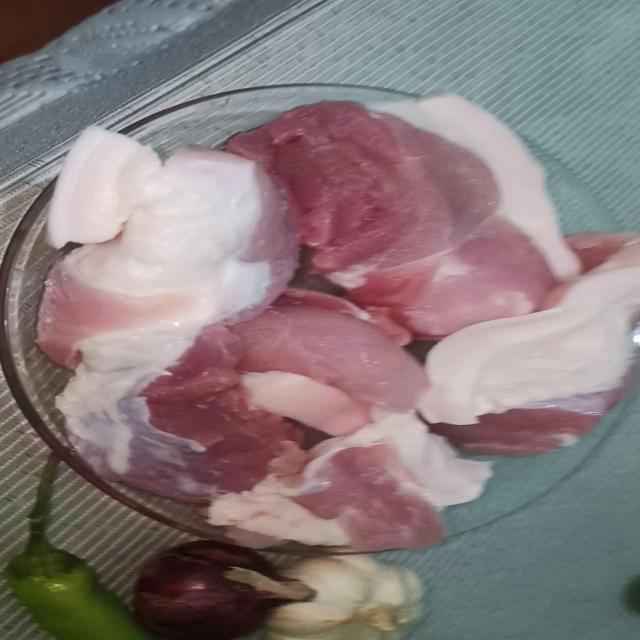chili_pepper: (0, 434, 146, 640)
garlic: (270, 555, 453, 640)
onion: (142, 532, 270, 639)
pork: (264, 85, 584, 325), (51, 140, 282, 383), (471, 225, 640, 475), (219, 422, 480, 558), (142, 297, 507, 392), (57, 383, 368, 477)
